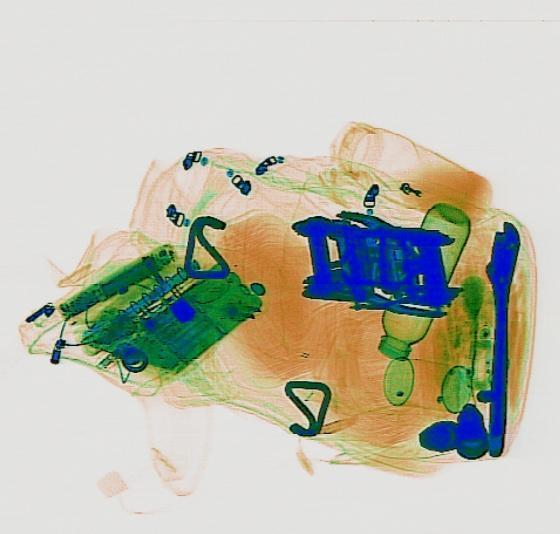Wrench: (474, 218, 520, 456)
